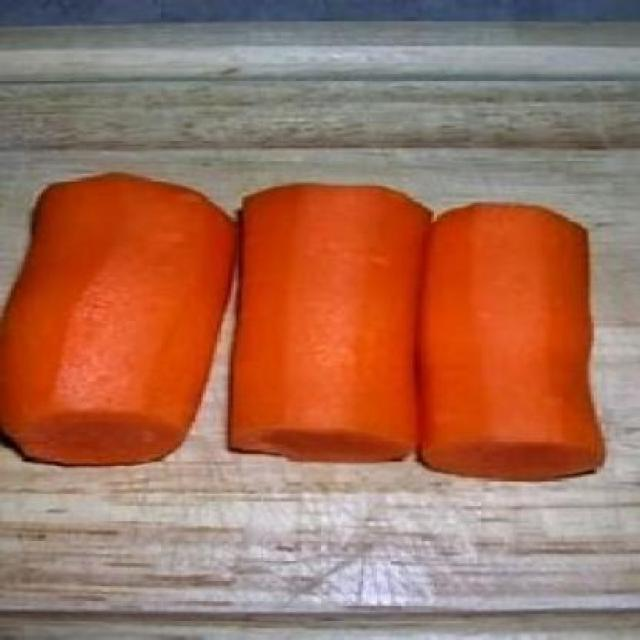carrot: (7, 177, 238, 473), (424, 173, 621, 490), (233, 179, 424, 480)
